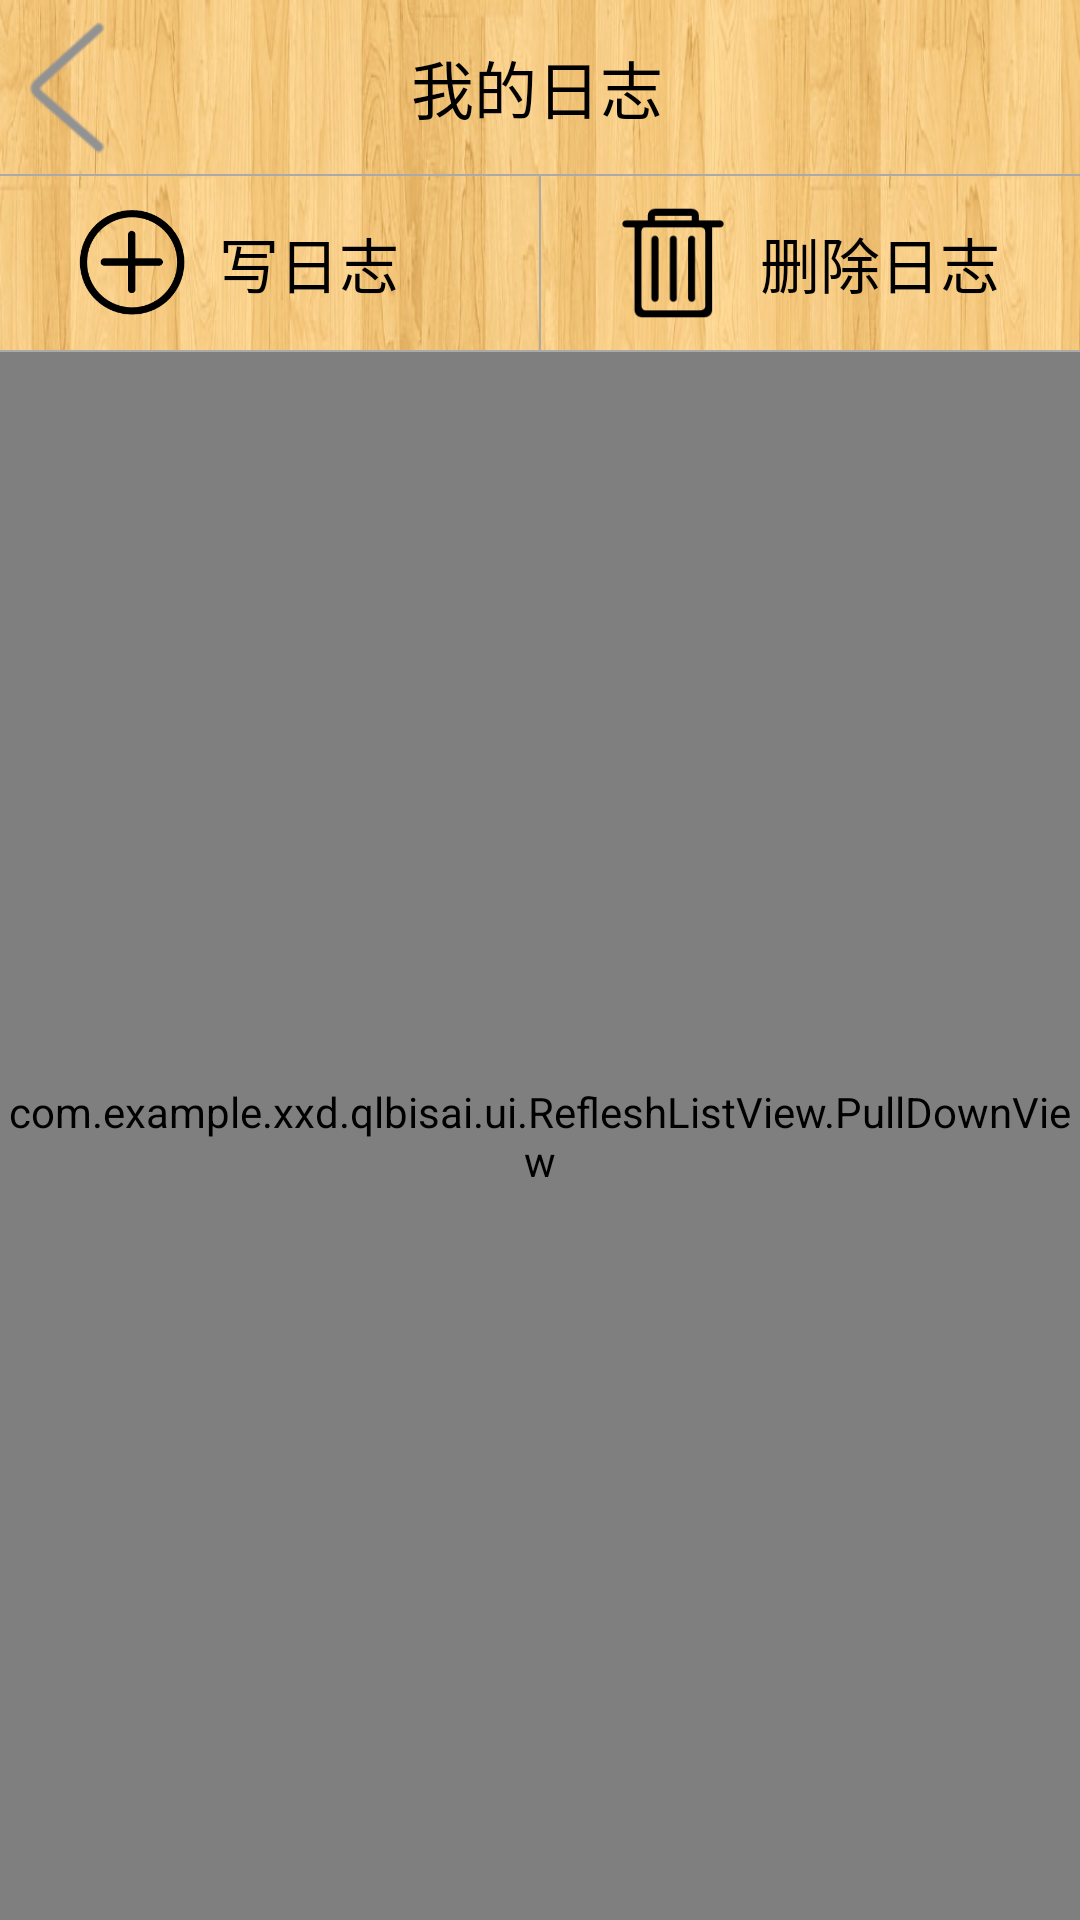

Locate icon controls on the screen. Image size 1080x1920, boxes as (x1, y1, x2, y2).
back: (7, 0, 125, 174)
zengjia: (32, 206, 185, 320)
